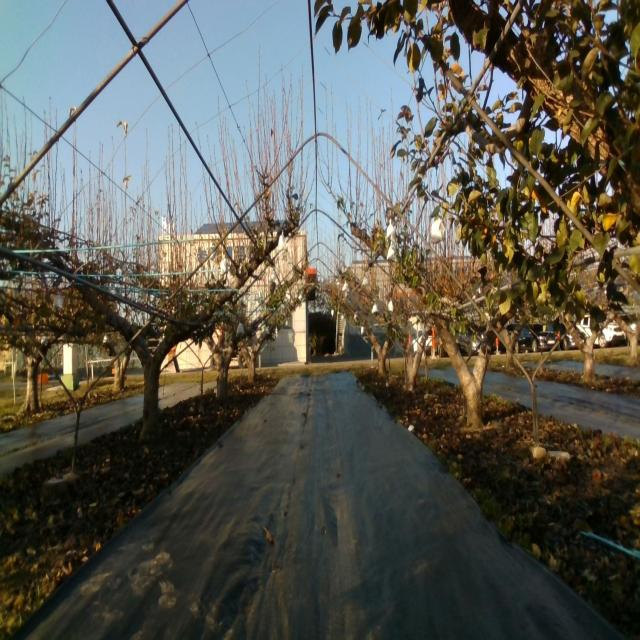pearbags: (430, 214, 446, 246), (219, 252, 231, 278), (386, 241, 397, 263), (278, 232, 288, 252)
